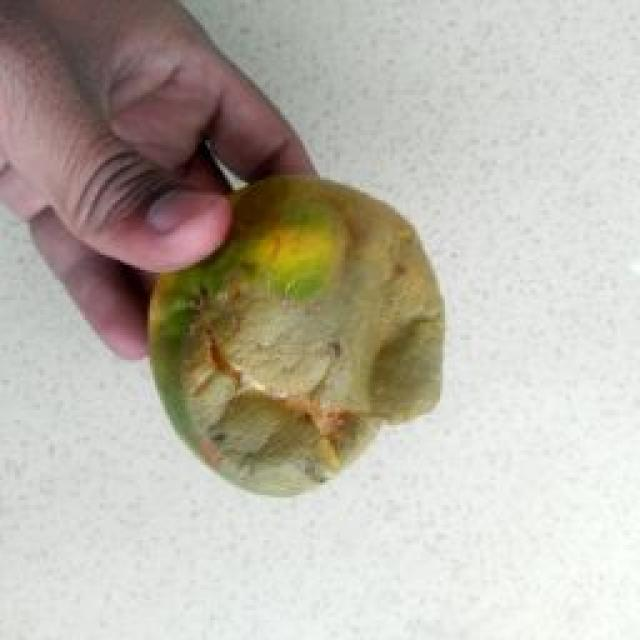Bad_Orange: (149, 178, 444, 494)
